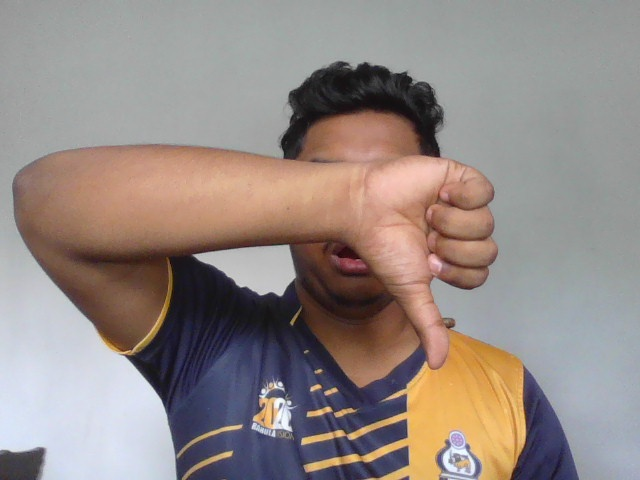Disagree: (368, 153, 498, 370)
